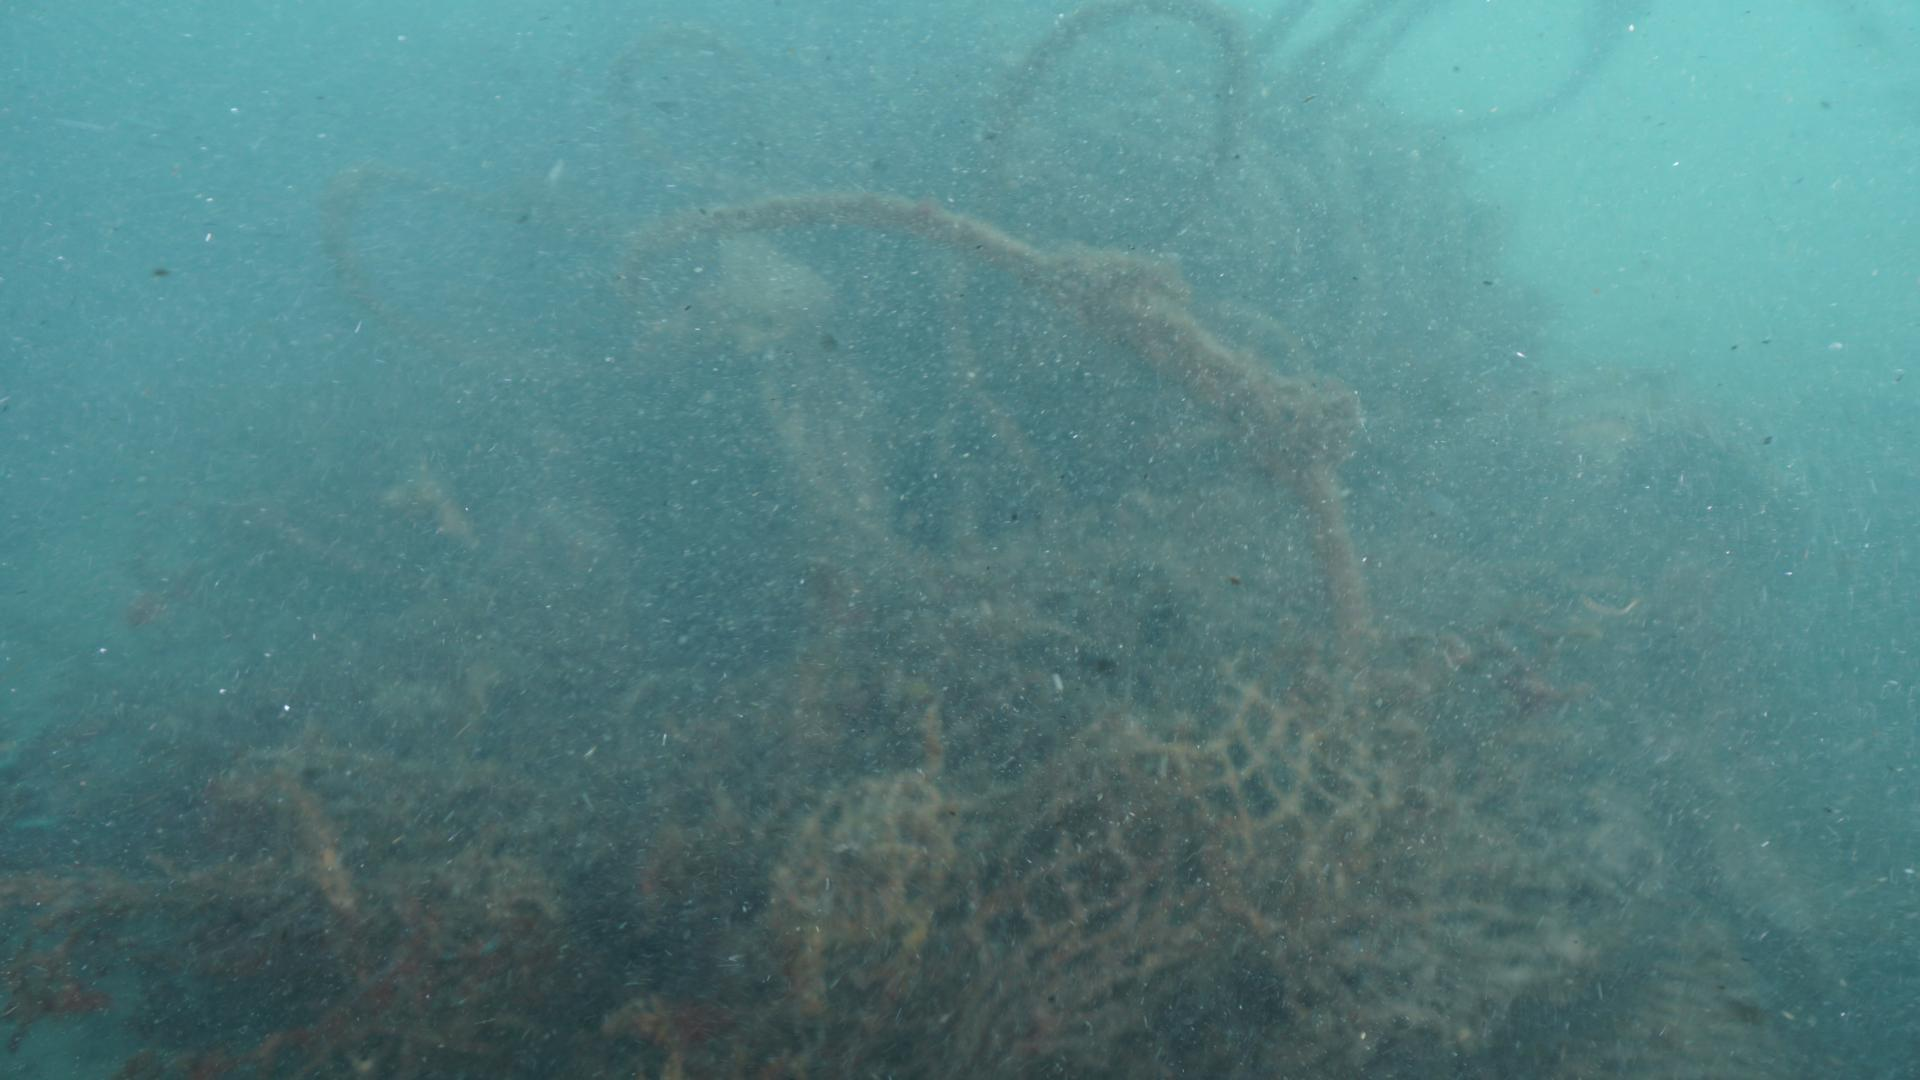bundle of ropes: (318, 0, 1625, 605)
fish net: (609, 615, 1551, 1077)
